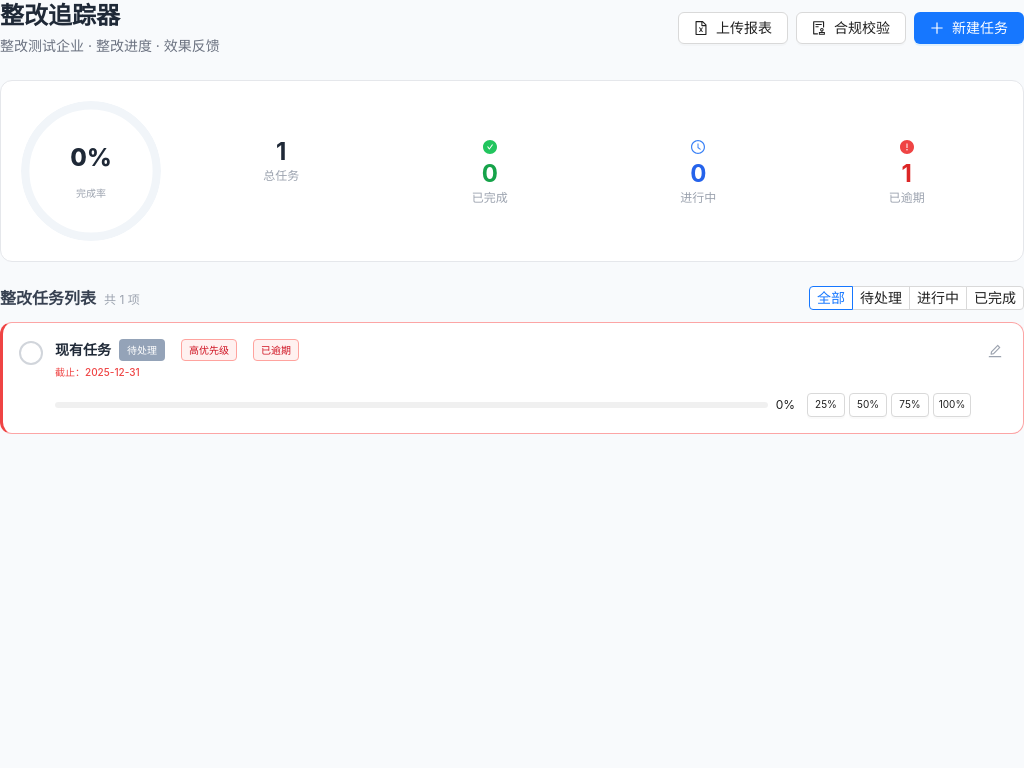
Test: Remediation — 新建/编辑弹窗 › 点击新建任务 → 弹窗打开并显示标题
The image size is (1024, 768).
Check: the button "现有任务" is shown, box [55,340,111,360]
Note: 点击新建任务按钮
Click the button "新建任务" at coordinates (969, 28), box [914,12,1023,44]
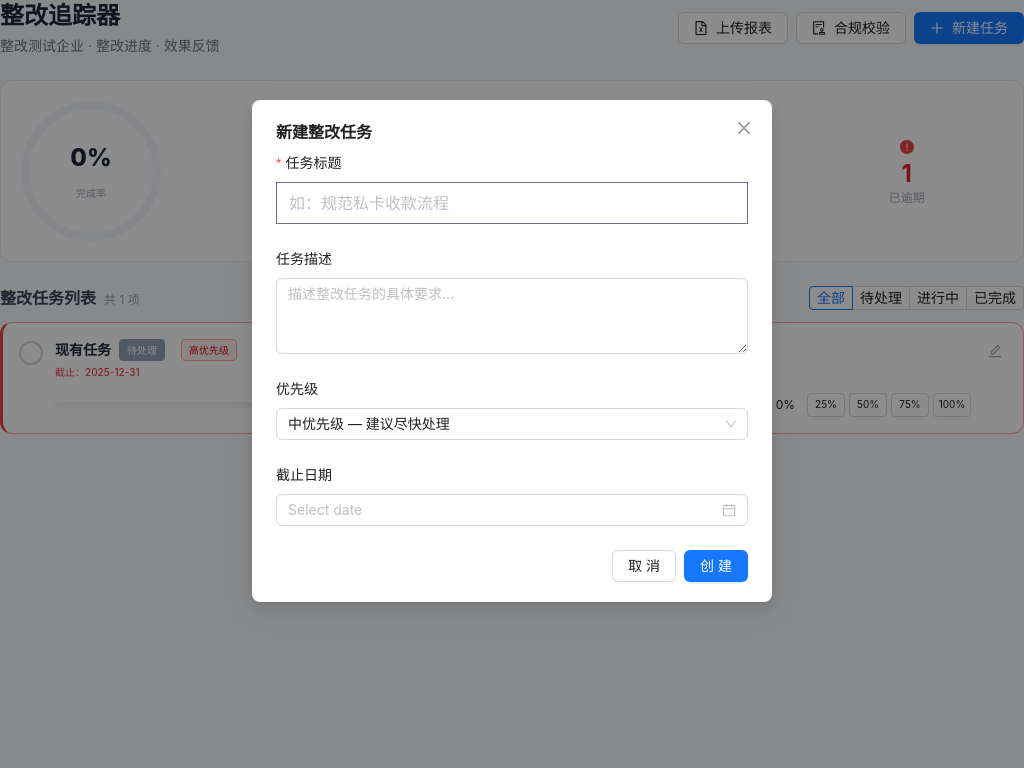
Check: the text "新建整改任务" is shown, box [276,122,372,142]
